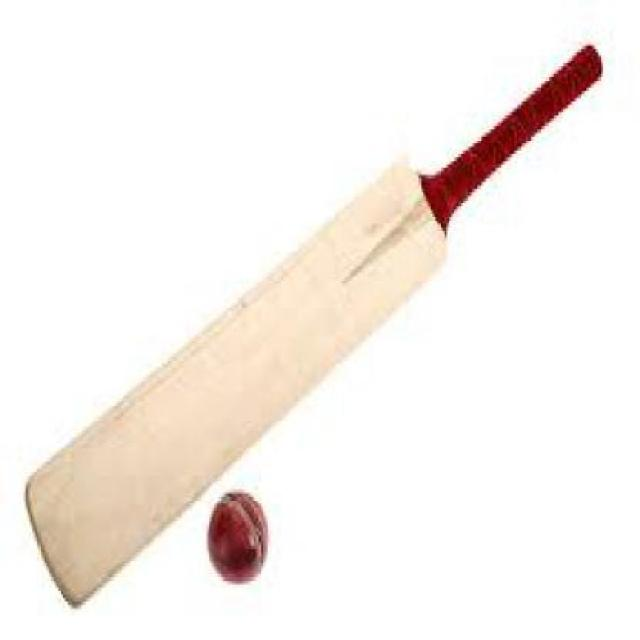ball: (177, 468, 333, 616)
